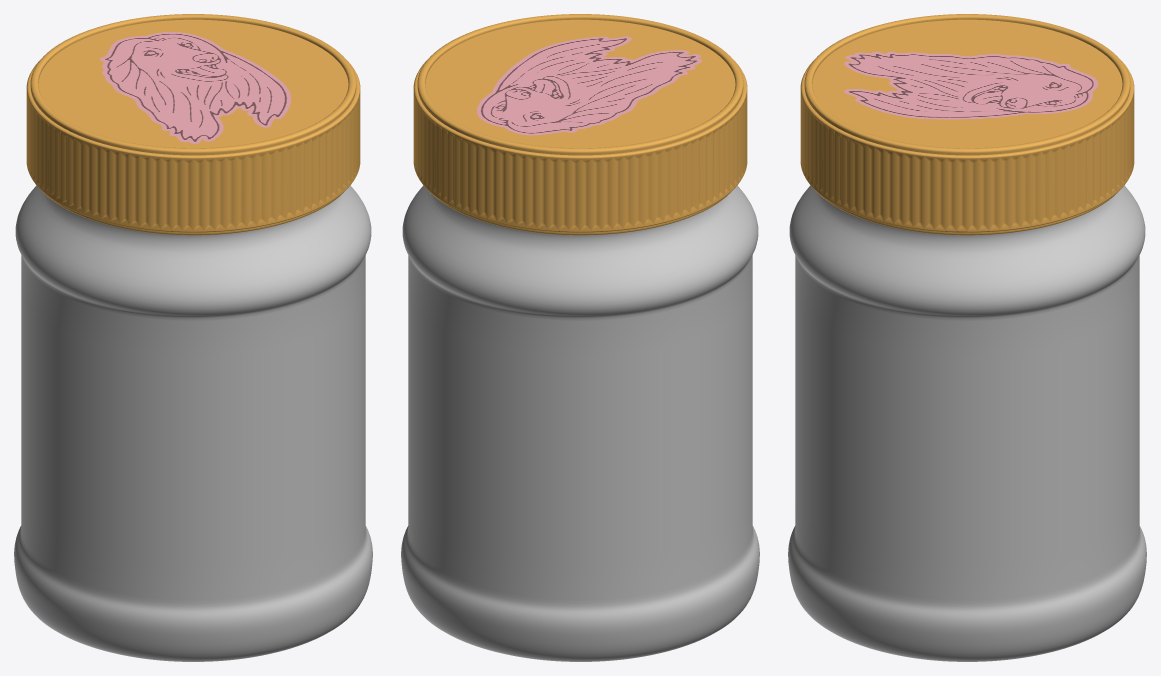
3 views of the same model, side by side, from view 1: azimuth 30°, elevation 25°; view 2: azimuth 150°, elevation 25°; view 3: azimuth 270°, elevation 25° (orthographic).
Parts seen in each view (by area): view 1: can:glass3, can:top; view 2: can:glass3, can:top; view 3: can:glass3, can:top.
Part boxes in pixels (<box>): can:glass3: <box>14,185,372,661</box>; can:top: <box>26,14,360,235</box>; can:glass3: <box>401,185,759,661</box>; can:top: <box>413,14,747,235</box>; can:glass3: <box>788,185,1146,661</box>; can:top: <box>800,14,1134,235</box>.
Size of the model in its own units: 9.78 by 15.47 by 9.78.
